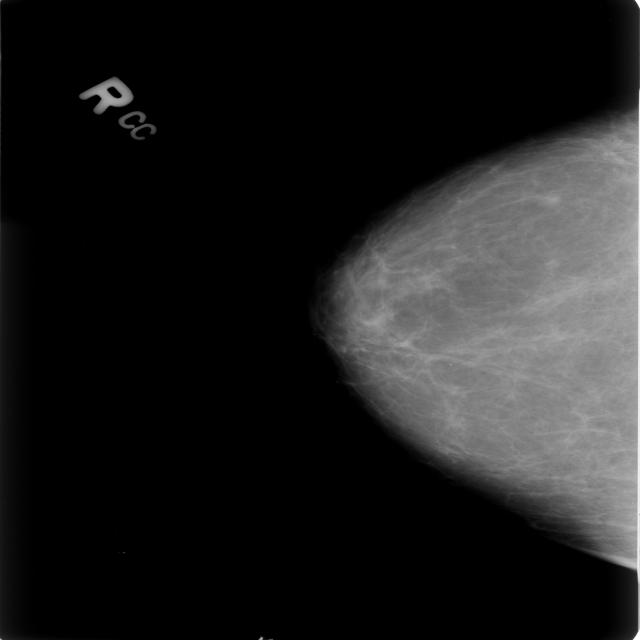normal: (283, 116, 640, 579)
